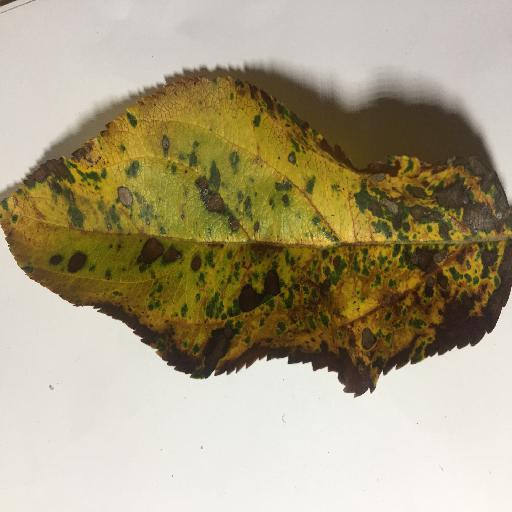Brown_Spot: (254, 110, 498, 422), (157, 321, 239, 368), (18, 149, 84, 191), (135, 241, 203, 271), (189, 177, 225, 215), (40, 253, 92, 263), (115, 190, 134, 210)
